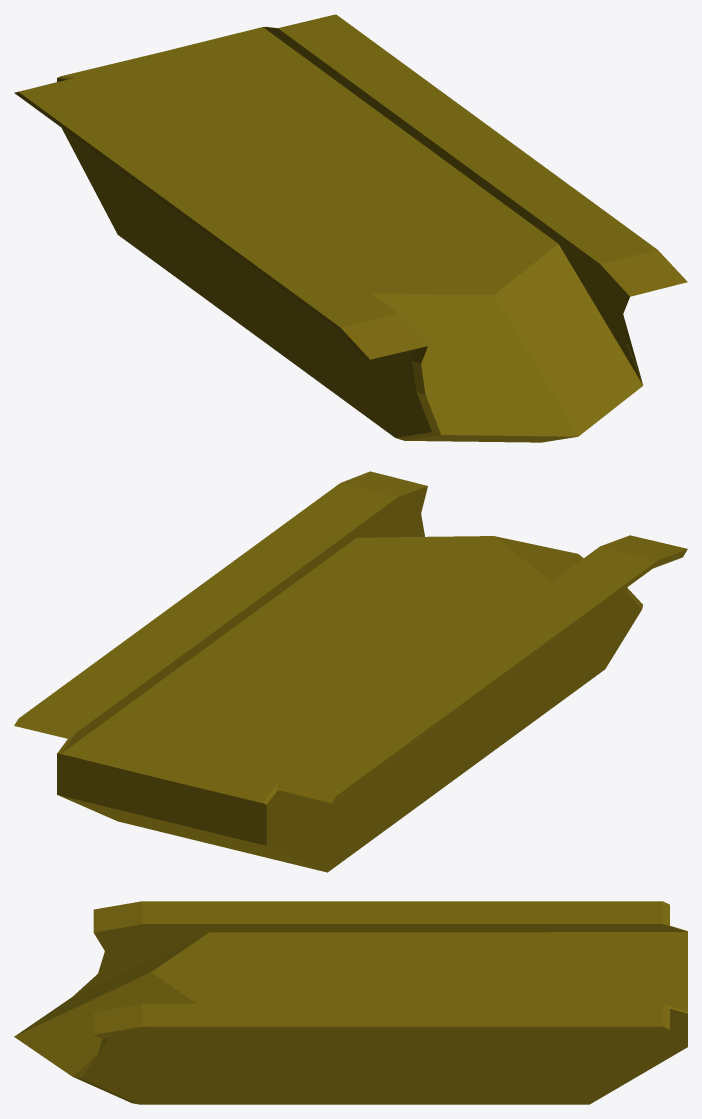
The model's file is Tank_Chassis_V3.fbx.
3 renders of one model, top to bottom at view 1: azimuth 30°, elevation 25°; view 2: azimuth 150°, elevation 25°; view 3: azimuth 270°, elevation 25°, orthographic. The views are drawn at different scales.
Visible parts, largest first — view 1: Tank_Chassis; view 2: Tank_Chassis; view 3: Tank_Chassis.
Part boxes in pixels (box(x1,y1,x2,y2)): Tank_Chassis: box(14, 14, 687, 442); Tank_Chassis: box(14, 471, 687, 872); Tank_Chassis: box(14, 901, 687, 1104).
Size of the model in its own units: 903 by 333 by 2049.
